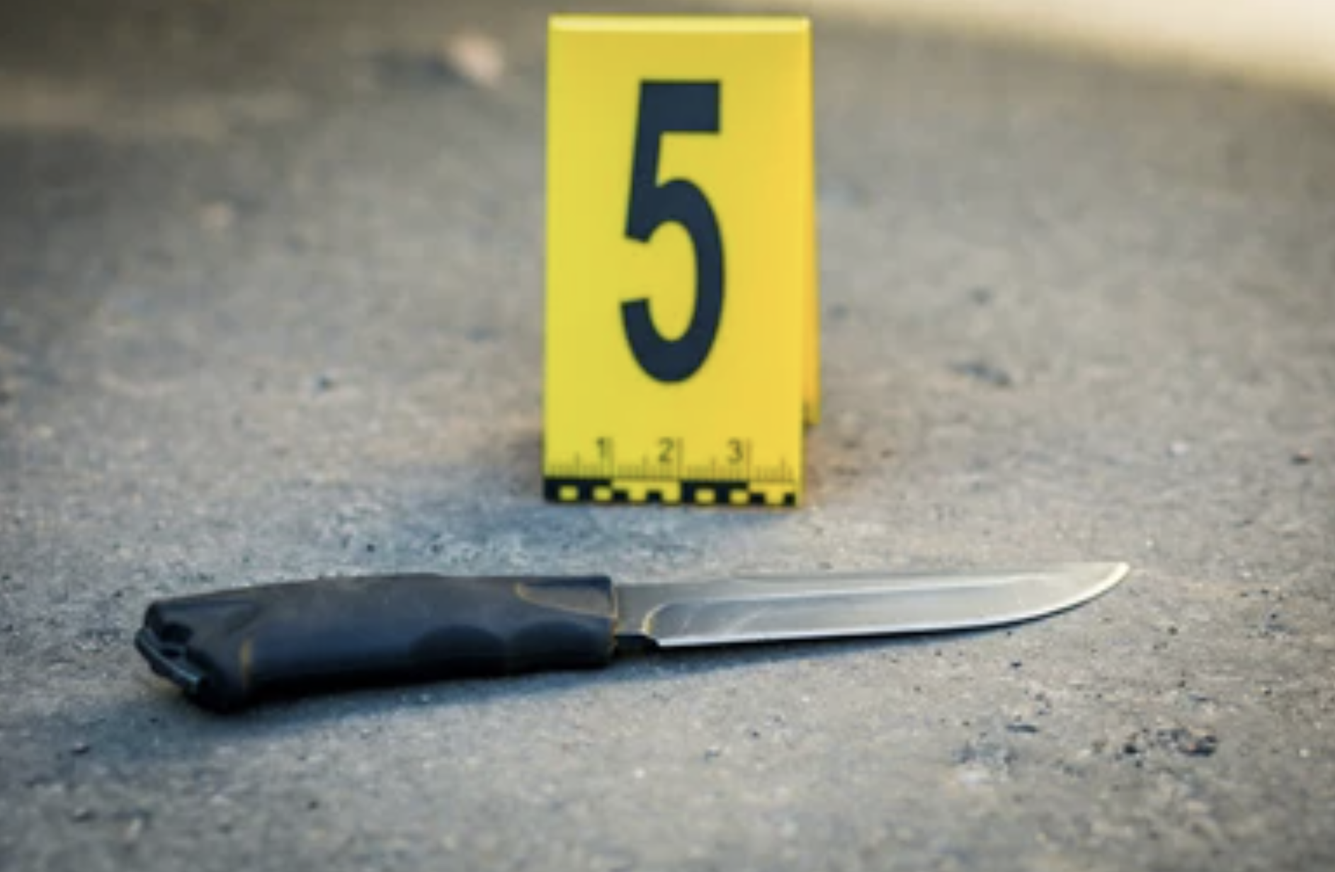knife_41.png: (106, 519, 1193, 749)
